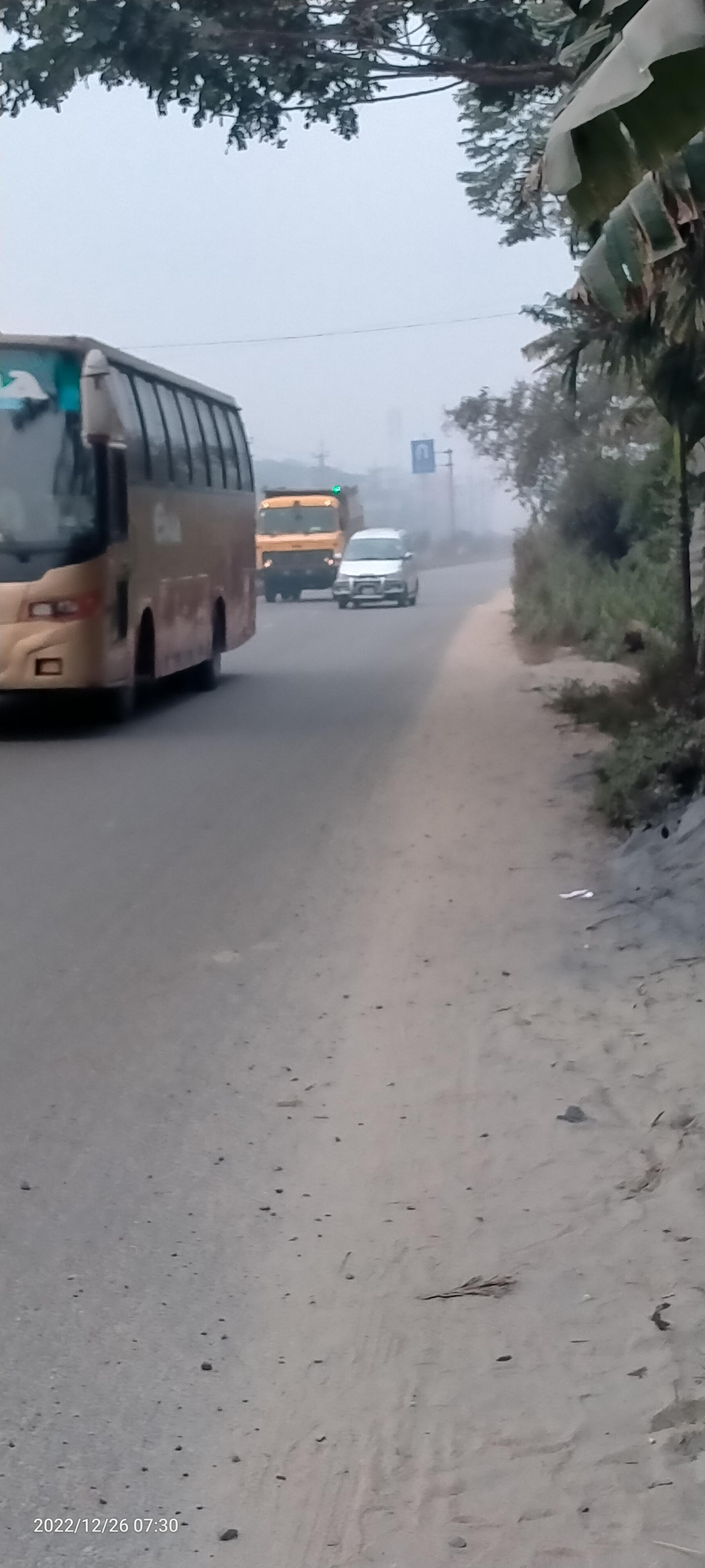Bus: (2, 297, 261, 723)
Car: (329, 523, 424, 611)
Truck: (258, 474, 365, 612)
